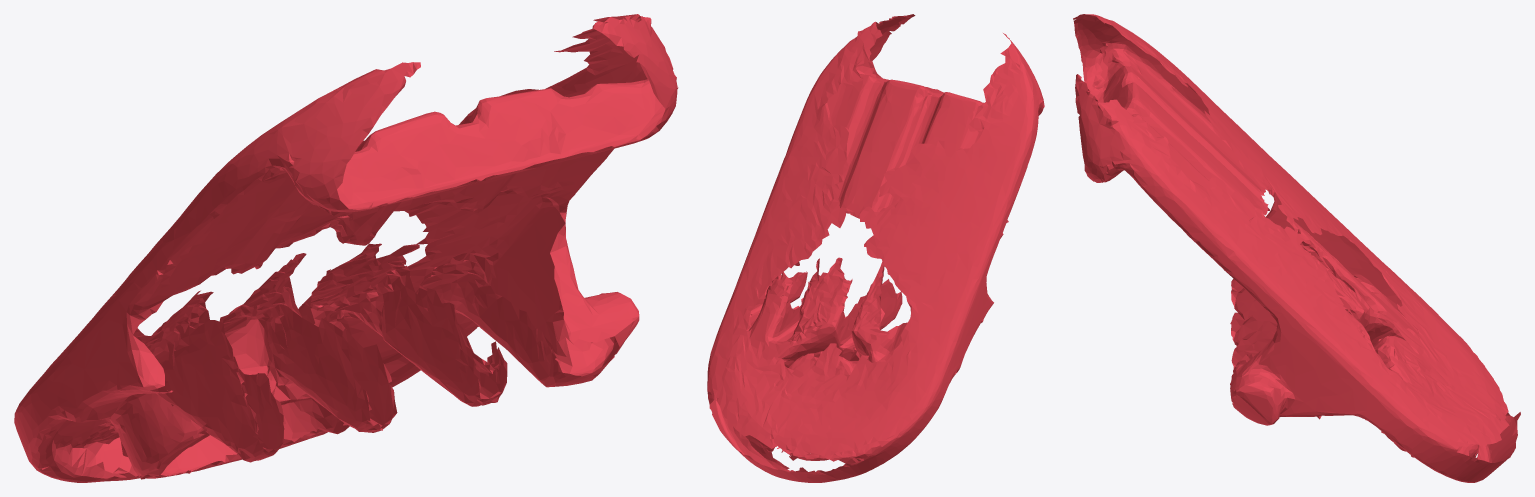
The model's file is scan.glb.
3 renders of one model, left to right at view 1: azimuth 30°, elevation 25°; view 2: azimuth 150°, elevation 25°; view 3: azimuth 270°, elevation 25°, orthographic. The views are drawn at different scales.
Parts seen in each view (by area): view 1: Asset3DLoadersceneRoot; view 2: Asset3DLoadersceneRoot; view 3: Asset3DLoadersceneRoot.
Part boxes in pixels (x1,y1,x2,y2): Asset3DLoadersceneRoot: [14, 14, 678, 482]; Asset3DLoadersceneRoot: [707, 14, 1044, 482]; Asset3DLoadersceneRoot: [1073, 14, 1520, 482].
Size of the model in its own units: 27.38 by 36.1 by 35.14.
